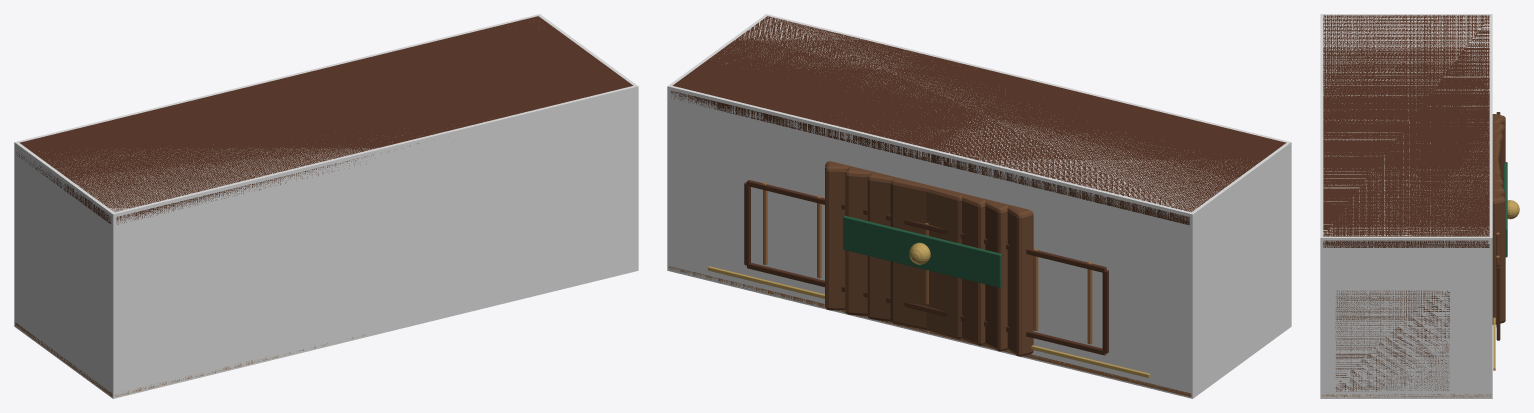
Rendered from executive.glb.
3 views of the same model, side by side, from view 1: azimuth 30°, elevation 25°; view 2: azimuth 150°, elevation 25°; view 3: azimuth 270°, elevation 25° (orthographic). The views are drawn at different scales.
Visible parts, largest first — view 1: COL_RECEPTION_DESKS_EXECUTIVE, Reception_Worktop.004, Reception_SteppedPlinth; view 2: COL_RECEPTION_DESKS_EXECUTIVE, Reception_Worktop.004, Reception_LogoPlaque.001, Reception_FrontSegment_4.003, Reception_FrontSegment_0.004, Reception_FrontSegment_3.004, Reception_FrontSegment_7, Reception_FrontSegment_2.004, Reception_FrontSegment_1.004, Reception_FrontSegment_5.002, Reception_FrontSegment_6.001, Reception_SteppedPlinth (+5 smaller); view 3: Reception_Worktop.004, COL_RECEPTION_DESKS_EXECUTIVE, Reception_ExecutiveWing, Reception_FrontSegment_7, Reception_TrimRight.002, Reception_SteppedPlinth, Reception_LogoPlaque.001, Reception_FrontSegment_2.004, Reception_FrontSegment_1.004, Reception_GolfMark.001.
Part boxes in pixels (x1=…): COL_RECEPTION_DESKS_EXECUTIVE: x1=14, y1=14, x2=638, y2=398; Reception_Worktop.004: x1=16, y1=16, x2=633, y2=224; Reception_SteppedPlinth: x1=15, y1=322, x2=412, y2=396; COL_RECEPTION_DESKS_EXECUTIVE: x1=667, y1=14, x2=1291, y2=398; Reception_Worktop.004: x1=671, y1=16, x2=1286, y2=225; Reception_LogoPlaque.001: x1=843, y1=215, x2=1001, y2=287; Reception_FrontSegment_4.003: x1=890, y1=177, x2=939, y2=330; Reception_FrontSegment_0.004: x1=1007, y1=204, x2=1033, y2=356; Reception_FrontSegment_3.004: x1=919, y1=183, x2=961, y2=339; Reception_FrontSegment_7: x1=825, y1=161, x2=850, y2=310; Reception_FrontSegment_2.004: x1=953, y1=191, x2=985, y2=345; Reception_FrontSegment_1.004: x1=983, y1=198, x2=1008, y2=351; Reception_FrontSegment_5.002: x1=867, y1=172, x2=896, y2=321; Reception_FrontSegment_6.001: x1=845, y1=166, x2=875, y2=315; Reception_SteppedPlinth: x1=669, y1=266, x2=1191, y2=396; Reception_Worktop.004: x1=1323, y1=15, x2=1489, y2=247; COL_RECEPTION_DESKS_EXECUTIVE: x1=1320, y1=14, x2=1492, y2=398; Reception_ExecutiveWing: x1=1335, y1=290, x2=1449, y2=391; Reception_FrontSegment_7: x1=1492, y1=190, x2=1505, y2=324; Reception_TrimRight.002: x1=1496, y1=266, x2=1500, y2=339; Reception_SteppedPlinth: x1=1322, y1=394, x2=1491, y2=397; Reception_LogoPlaque.001: x1=1504, y1=162, x2=1507, y2=257; Reception_FrontSegment_2.004: x1=1492, y1=132, x2=1503, y2=181; Reception_FrontSegment_1.004: x1=1492, y1=123, x2=1504, y2=188; Reception_GolfMark.001: x1=1507, y1=200, x2=1519, y2=219.
Bounding box in the file's own units: 3.67 × 1.23 × 1.38.
